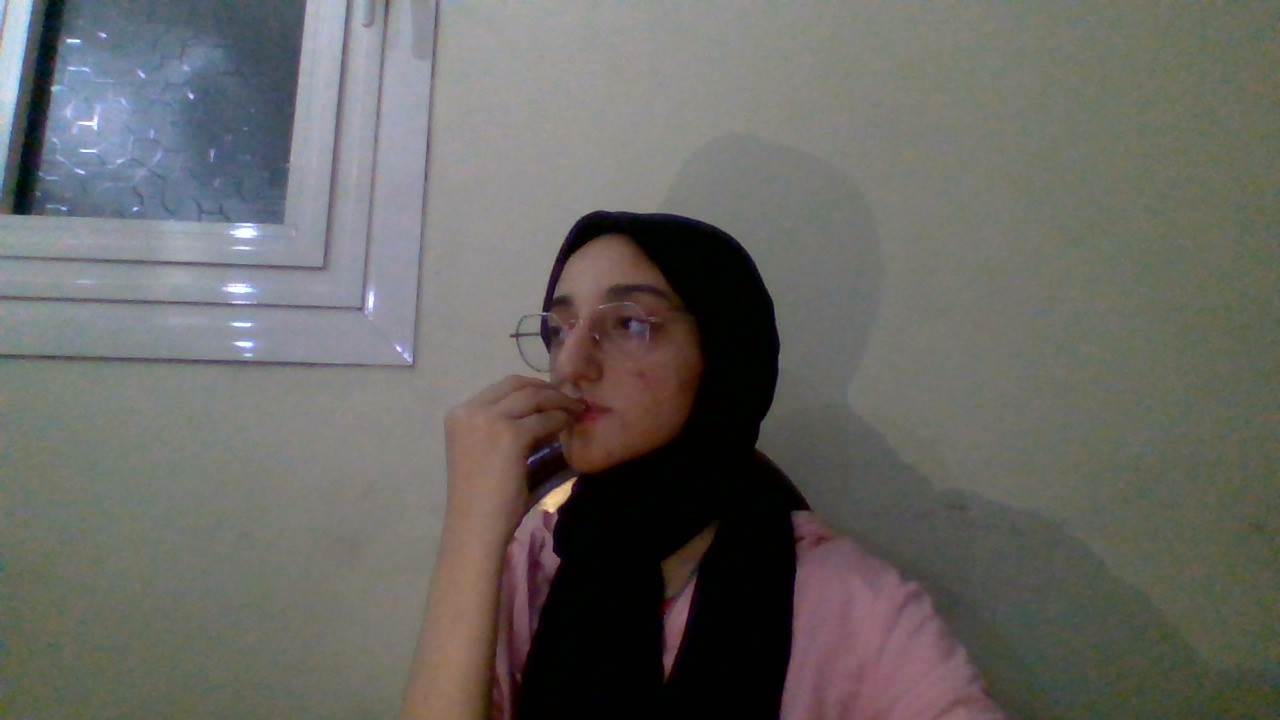eat: (401, 352, 682, 572)
